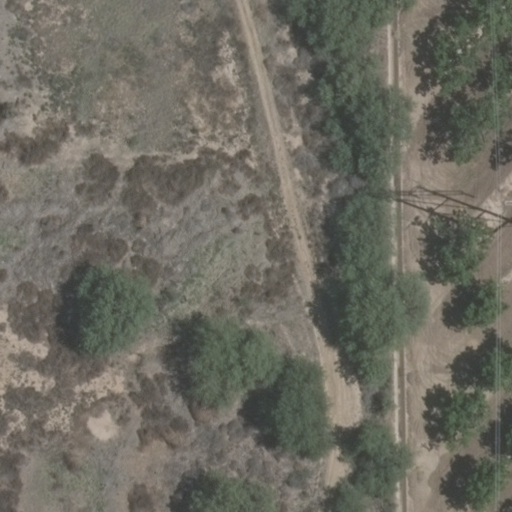TT: (398, 183, 512, 241)
